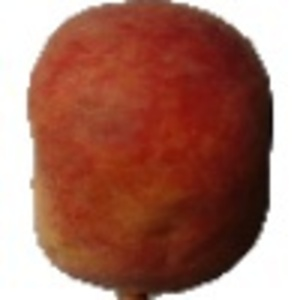pêssego: (9, 1, 274, 300)
